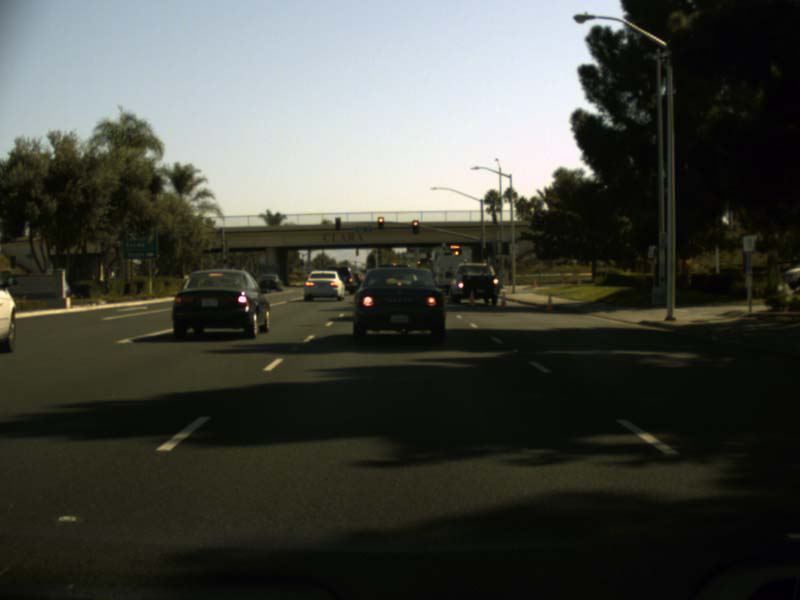Red: (411, 220, 419, 234), (378, 216, 384, 229)
